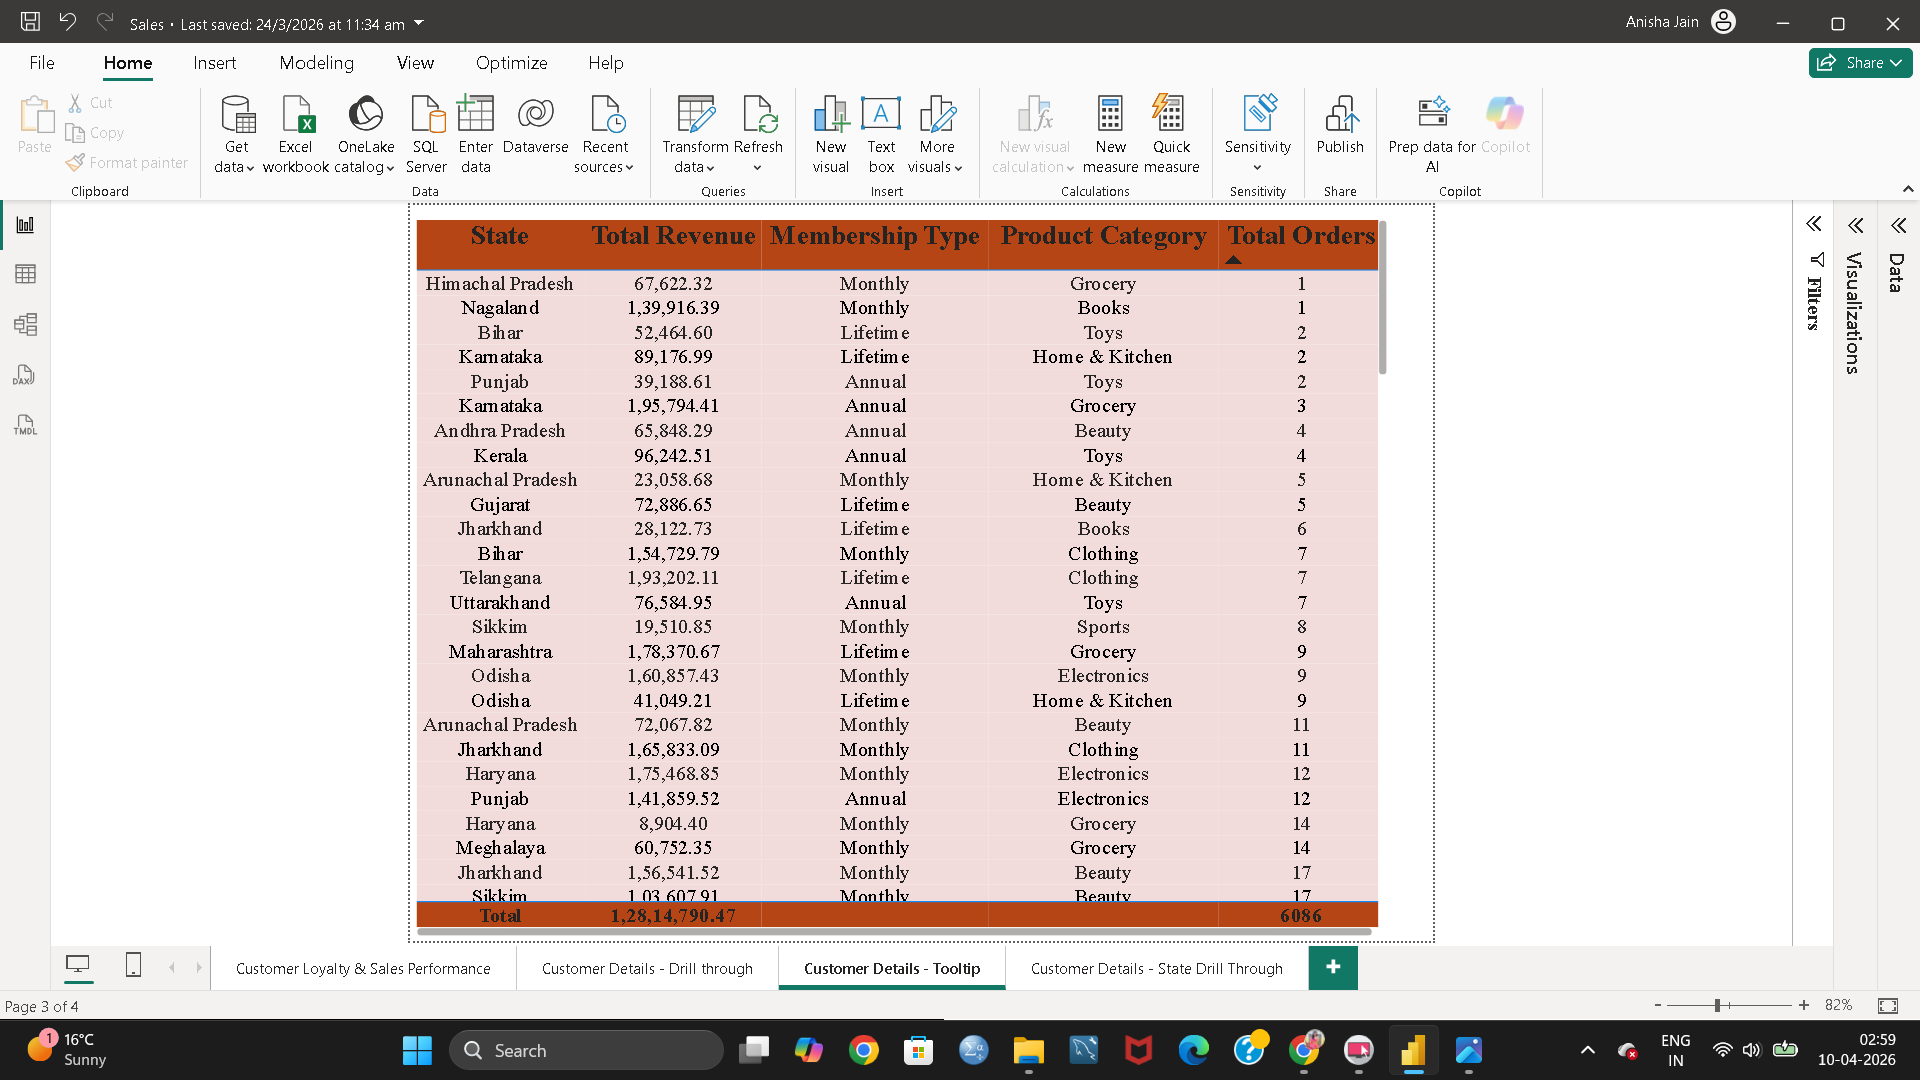

The dashboard page shown, as its layout file describes it:
{"tool":"powerbi","page":{"name":"Customer Details - Tooltip","canvas":[1000,720],"ordinal":2},"visuals":[{"type":"tableEx","fields":{"Values":["jbjj.State","DAX.Total Revenue","jbjj.Membership Type","jbjj.Product Category","DAX.Total Orders"]},"box":[0,9.8,961.1,710.5],"z":0}]}

Visuals, with their boxes on the page's 1000x720 design canvas (x1, y1, x2, y2). These are canvas units, not pixel positions in the 1920x1080 screenshot, which may show the page scaled, cropped or inside an application window:
tableEx - jbjj.State x DAX.Total Revenue: crop(0, 10, 961, 720)
